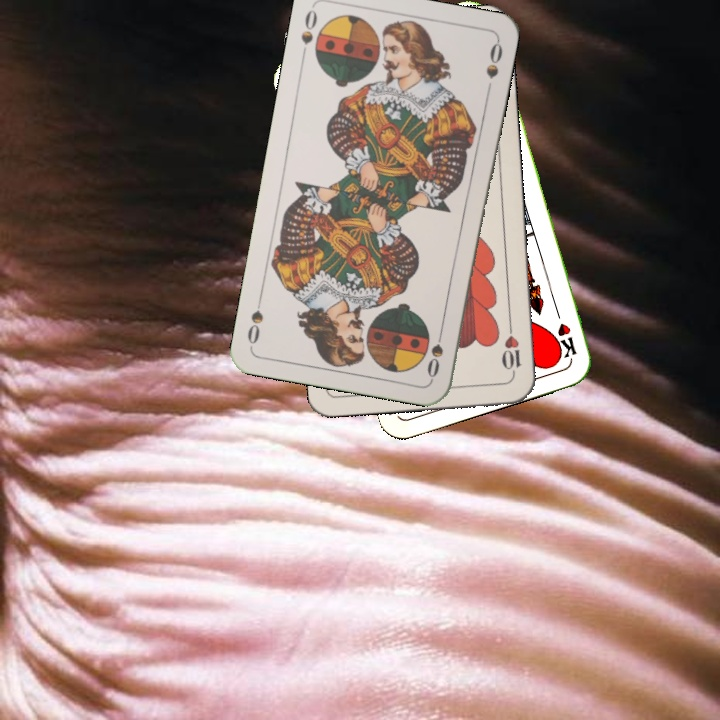H10: (498, 319, 524, 378)
HK: (550, 302, 579, 361)
SO: (423, 322, 446, 381), (297, 6, 320, 62)
